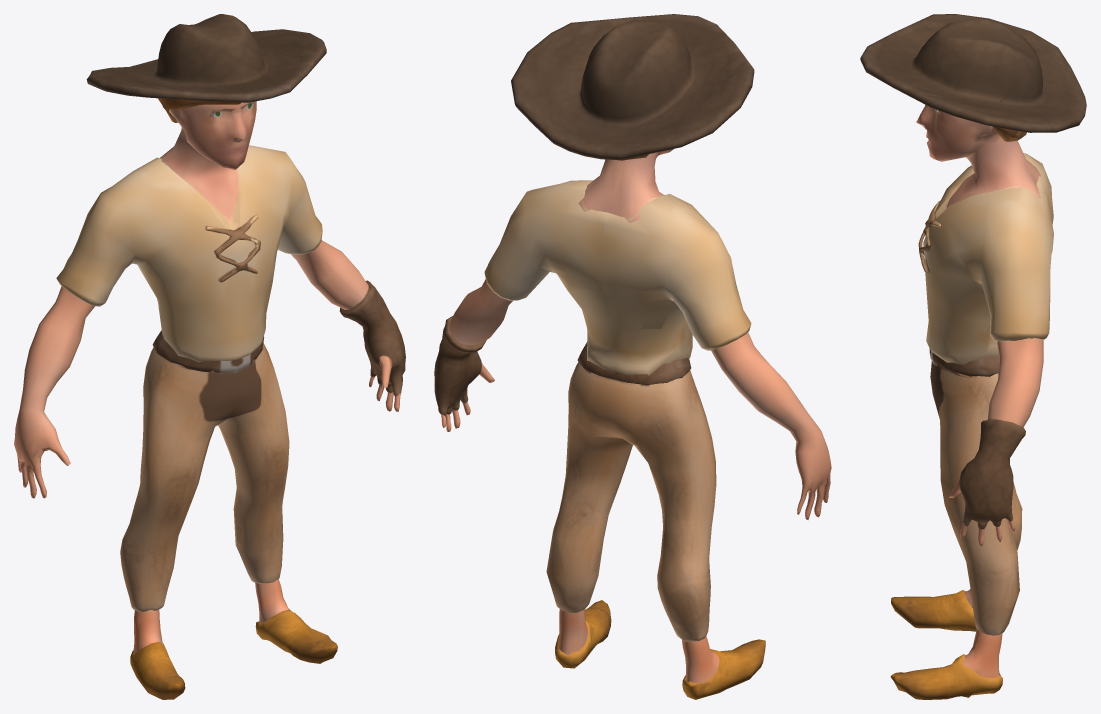
The model's file is farmer.fbx.
The picture shows the model from 3 angles, left to right: view 1: azimuth 30°, elevation 25°; view 2: azimuth 150°, elevation 25°; view 3: azimuth 270°, elevation 25°; orthographic projection. The views are drawn at different scales.
Visible parts, largest first — view 1: Object_6; view 2: Object_6; view 3: Object_6.
Boxes of the visible parts, x1,y1,x2,y2 form: Object_6: [14, 14, 405, 699]; Object_6: [434, 14, 831, 699]; Object_6: [860, 14, 1086, 699].
Bounding box in the file's own units: 117 × 187 × 60.61.
Materials: 1 (1 with a texture image).
